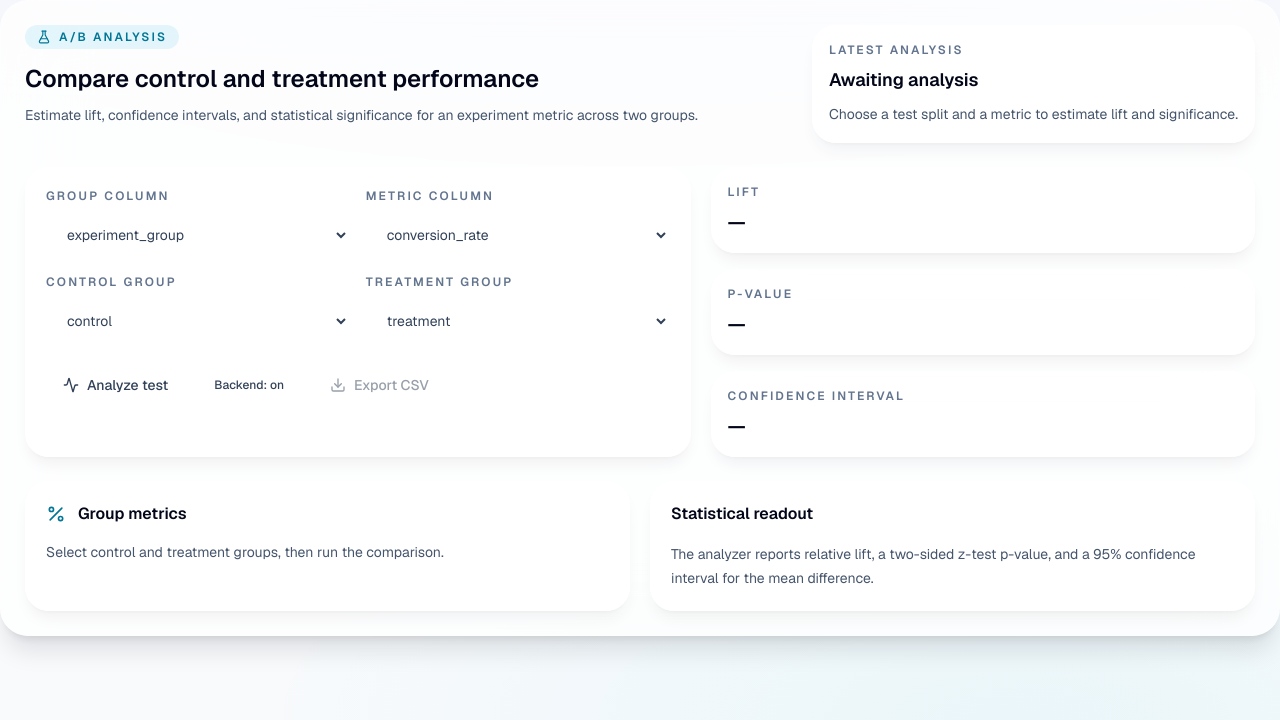
Test case: AbTestAnalyzer › computes lift and significance across control and treatment groups
The image size is (1280, 720).
Click the button "Backend: on". click: [249, 385]
box: [197,364,301,406]
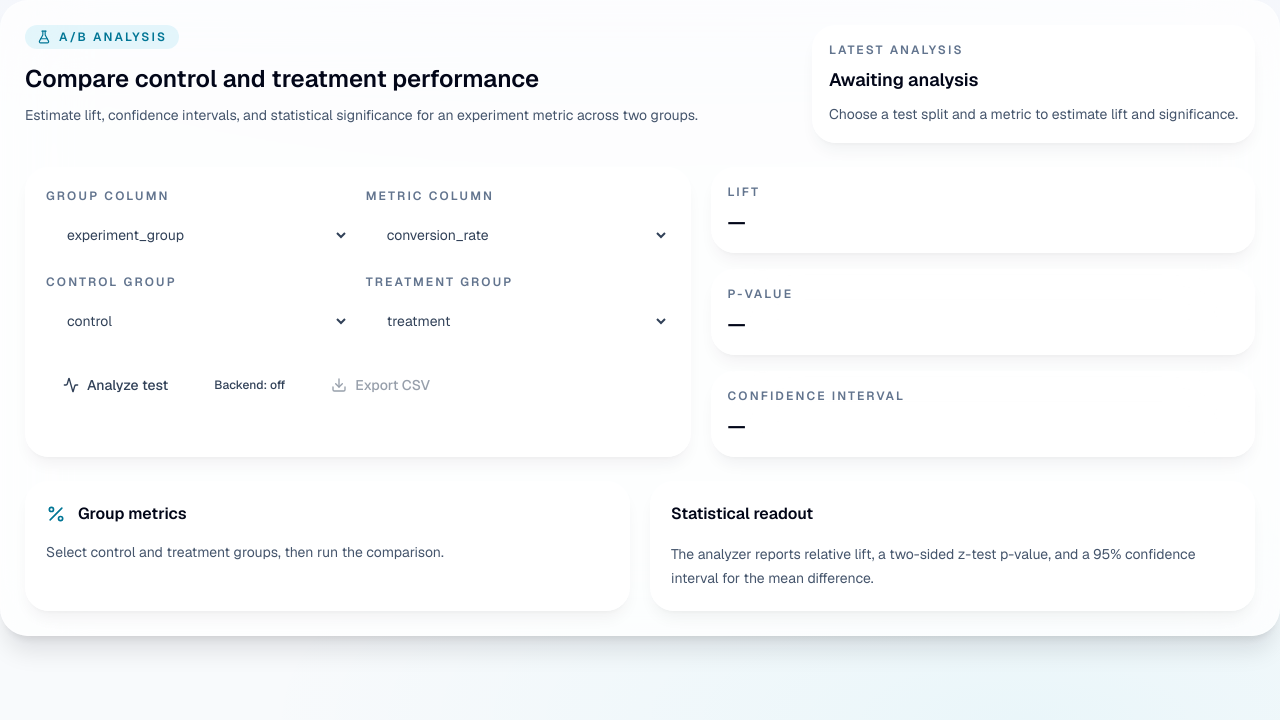
Click the button "Analyze test". click: [116, 385]
box: [46,364,185,406]
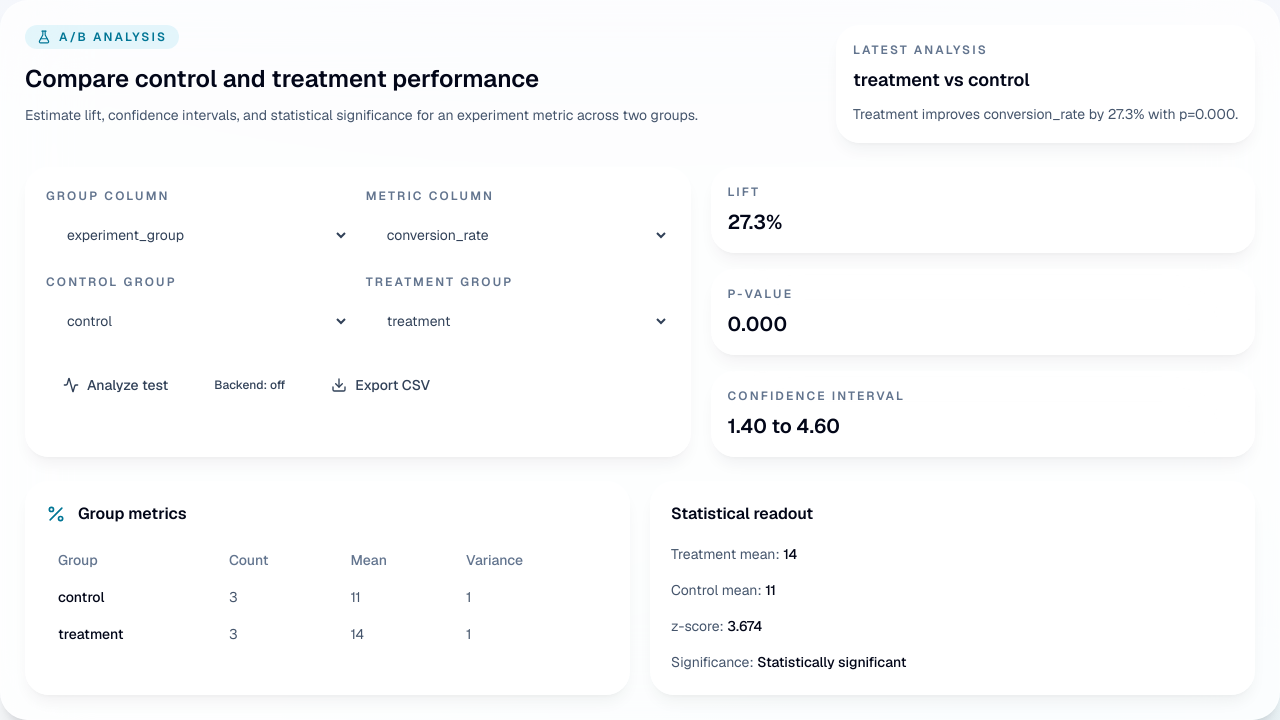
Expected: the text "Treatment improves conversion_rate by 27.3% with p=0.000." is shown, [853,102,1238,126]
